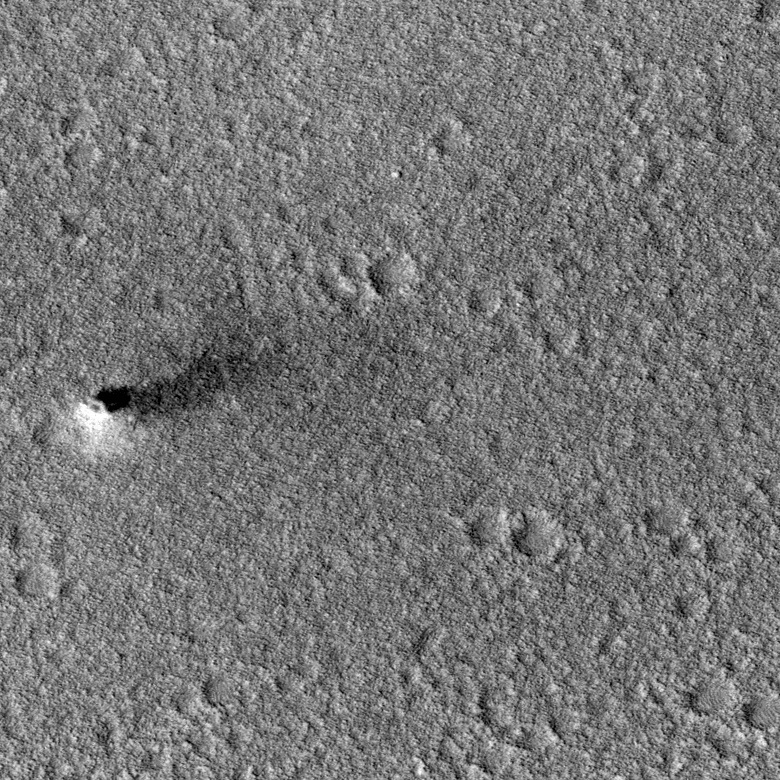dust_devil: (58, 352, 262, 460)
